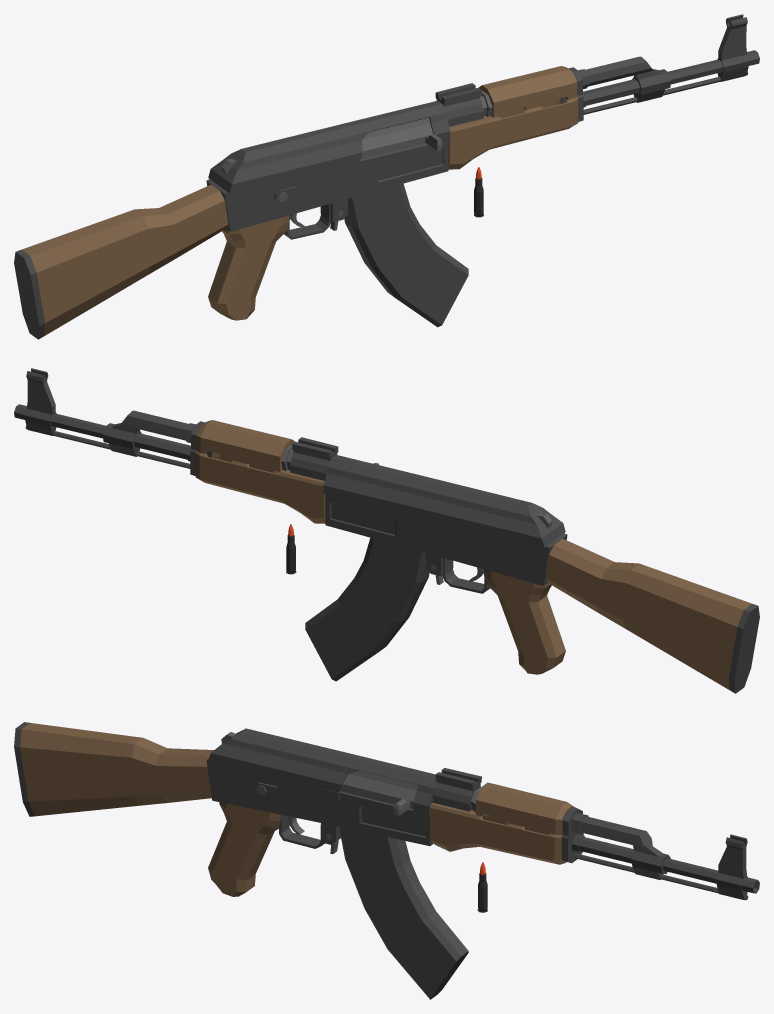
The picture shows the model from 3 angles, top to bottom: view 1: azimuth 30°, elevation 25°; view 2: azimuth 150°, elevation 25°; view 3: azimuth 330°, elevation 25°; orthographic projection.
Visible parts, largest first — view 1: AK47, Mag; view 2: AK47, Mag; view 3: AK47, Mag.
Boxes of the visible parts, x1,y1,x2,y2 form: AK47: (14,14,759,339); Mag: (344,183,468,327); AK47: (14,368,759,693); Mag: (305,537,429,681); AK47: (14,722,759,900); Mag: (339,827,468,999).
Bounding box in the file's own units: 954 × 289 × 72.5.
1 material, 1 textured.
